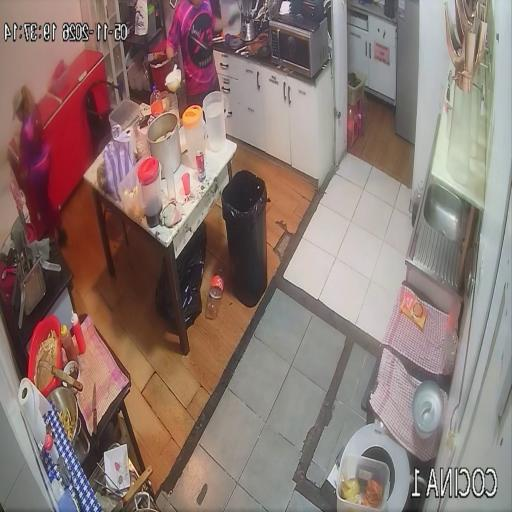Basurero: (222, 170, 268, 307)
Cuchillo1: (92, 383, 97, 435)
Envase Ketchup: (71, 312, 86, 354)
Envase Llajua: (61, 325, 78, 366)
Jarra1: (137, 157, 162, 228)
Jarra2: (182, 105, 206, 168)
Jarra3: (203, 91, 229, 152)
Microondas: (270, 15, 329, 77)
Persona1: (166, 0, 235, 108)
Persona2: (13, 85, 55, 229)
Tapa de olla: (412, 381, 444, 439)
Taper: (336, 453, 390, 512)
Taper2: (109, 99, 140, 130)
Vaso1: (182, 173, 190, 195)
olla1: (147, 111, 182, 177)
